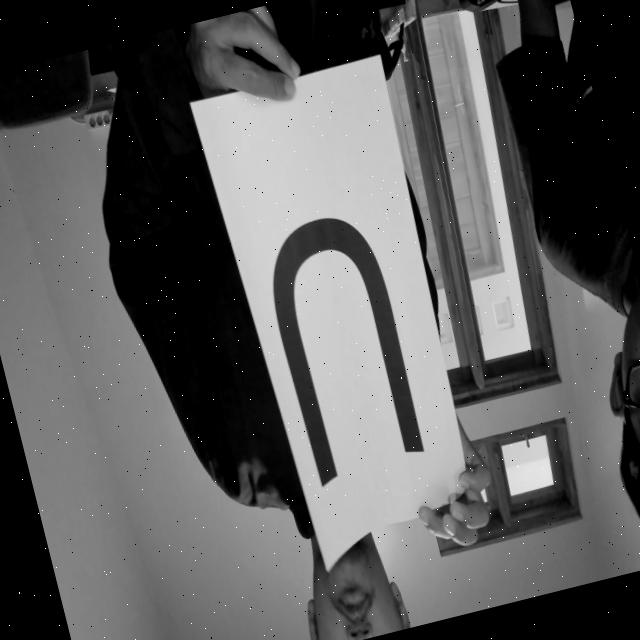u: (222, 175, 447, 502)
